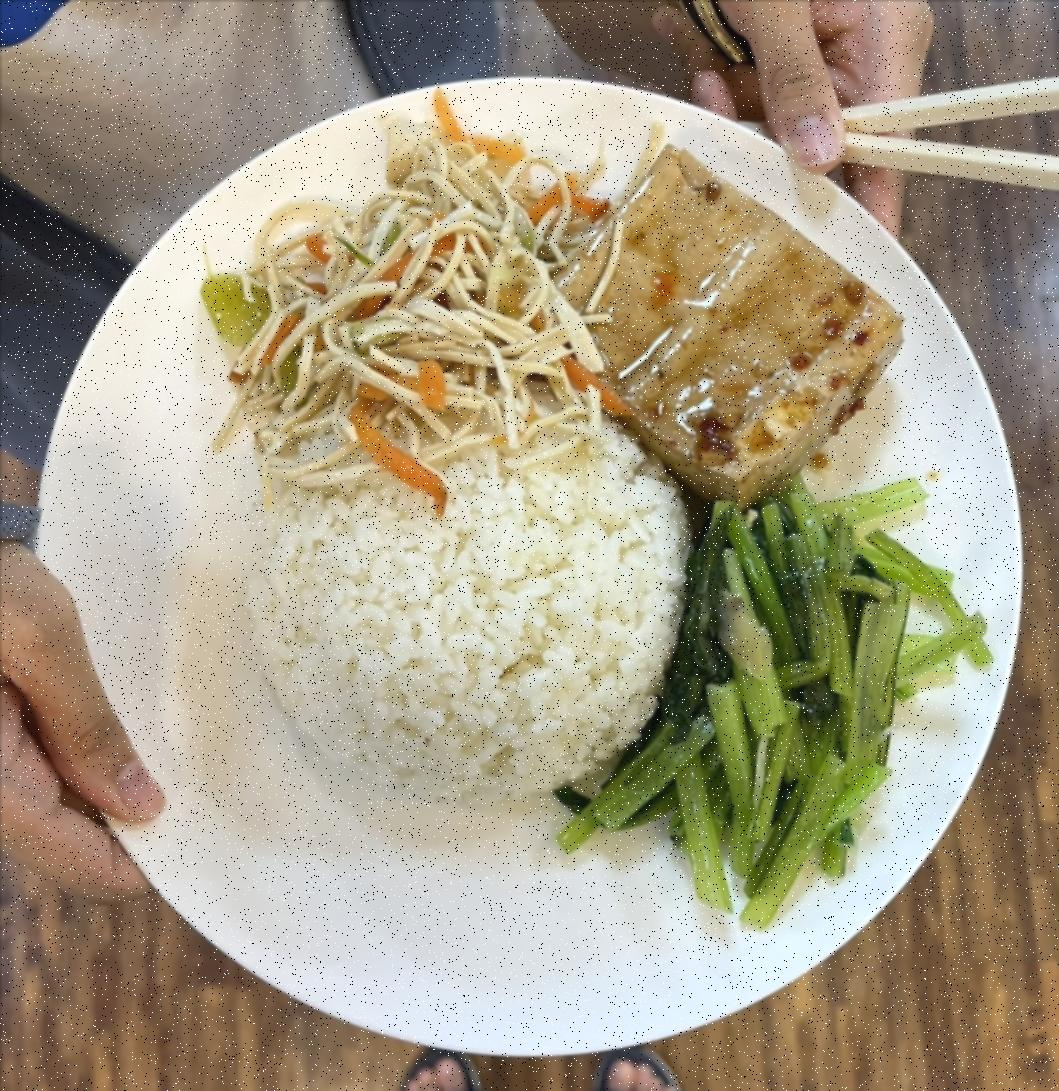big fried chicken leg: (0, 33, 1041, 1045)
big herbal chicken leg: (234, 398, 698, 811)
braised fish fillet: (206, 108, 598, 476), (628, 483, 951, 893), (546, 144, 898, 496)
